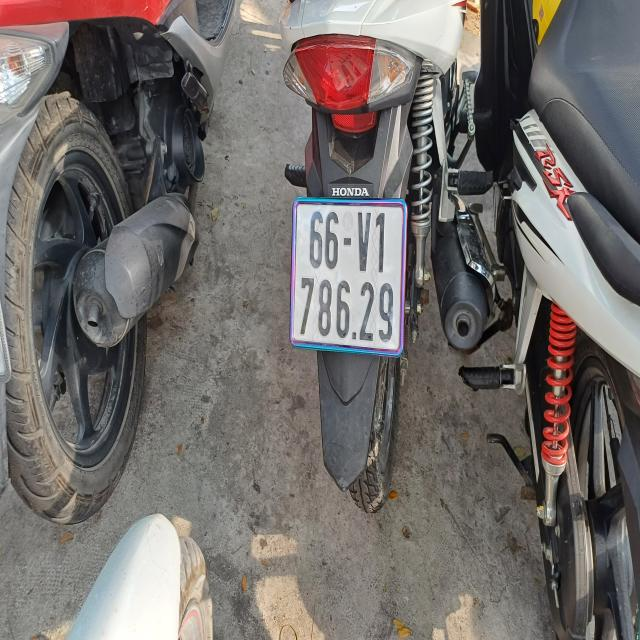1: (375, 212, 386, 274)
2: (360, 280, 373, 340)
6: (310, 209, 323, 268), (337, 279, 350, 338), (326, 210, 338, 268)
7: (301, 276, 315, 336)
8: (318, 278, 332, 338)
9: (379, 282, 394, 342)
V: (357, 211, 371, 272)
